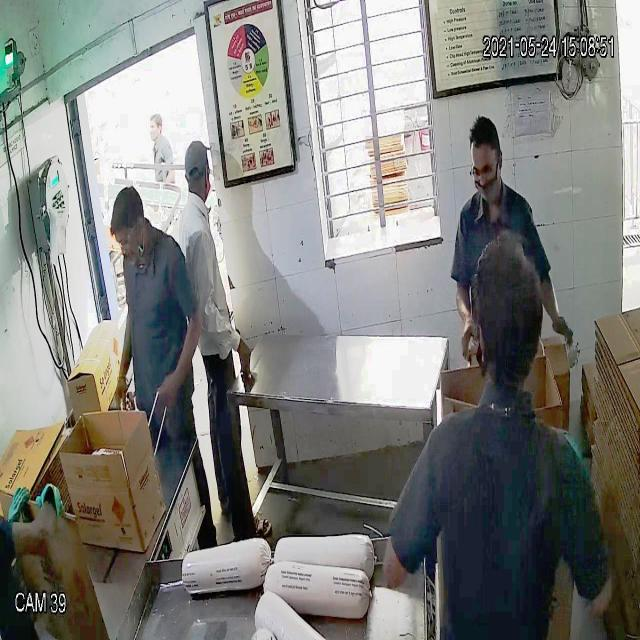glasses: (467, 156, 501, 186)
